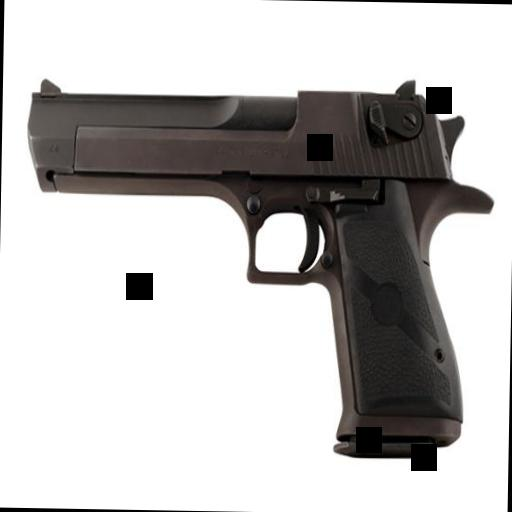Handgun: (11, 77, 498, 468)
